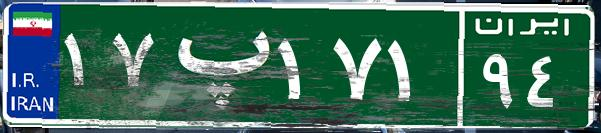1: (385, 28, 445, 110), (273, 28, 330, 110), (57, 26, 110, 107)
4: (525, 38, 570, 115)
7: (330, 28, 385, 110), (110, 28, 158, 105)
9: (475, 38, 525, 113)
پ: (158, 15, 273, 115)
